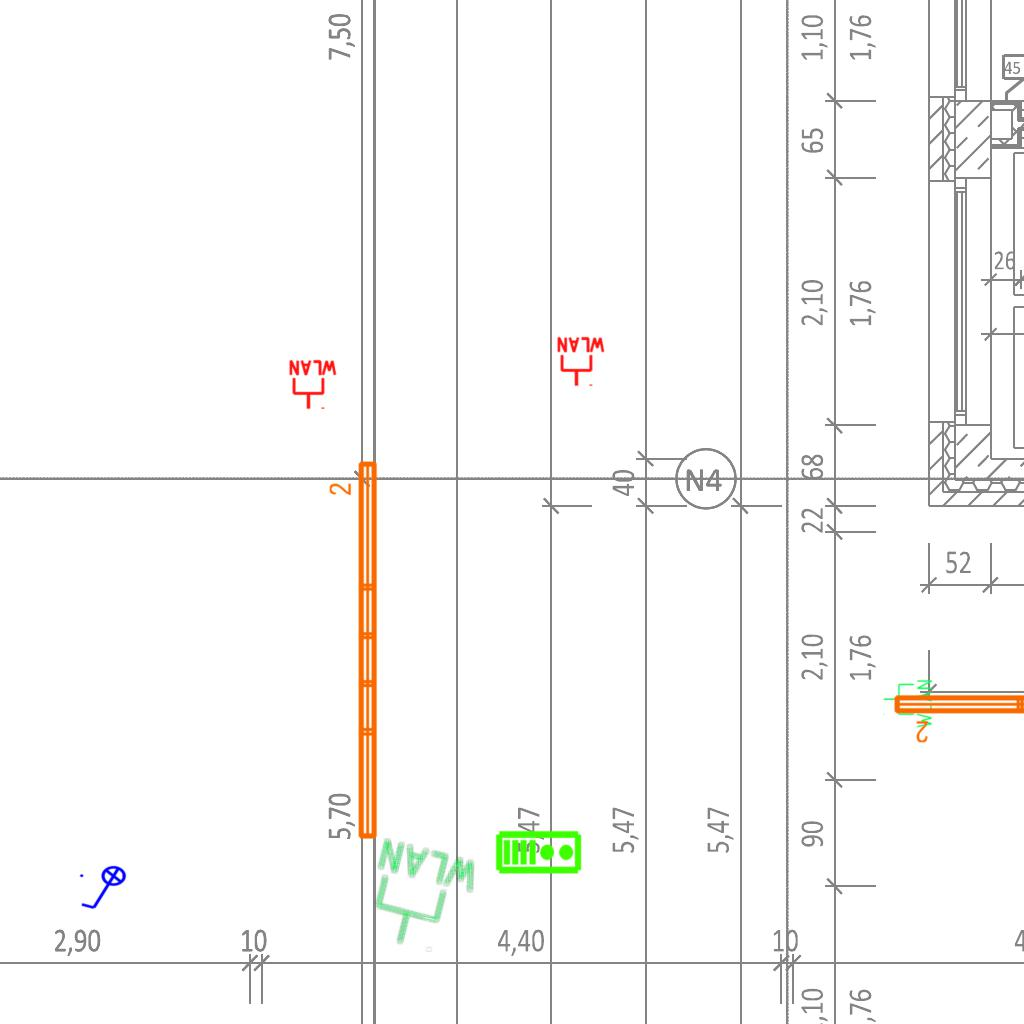Ambulanz_Pendelleuchte_LED: (327, 457, 383, 844), (890, 689, 1024, 745)
Ausschalter_beleuchtet: (77, 865, 133, 913)
Gegensprechanlage_mit_Video: (495, 828, 583, 875)
WLAN: (357, 834, 485, 961), (287, 359, 339, 411), (882, 678, 934, 730), (555, 336, 607, 388)
